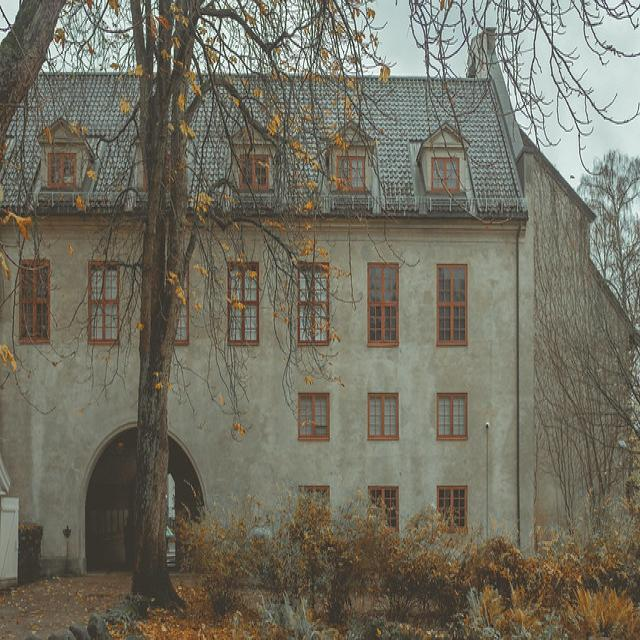building: (4, 58, 640, 589)
